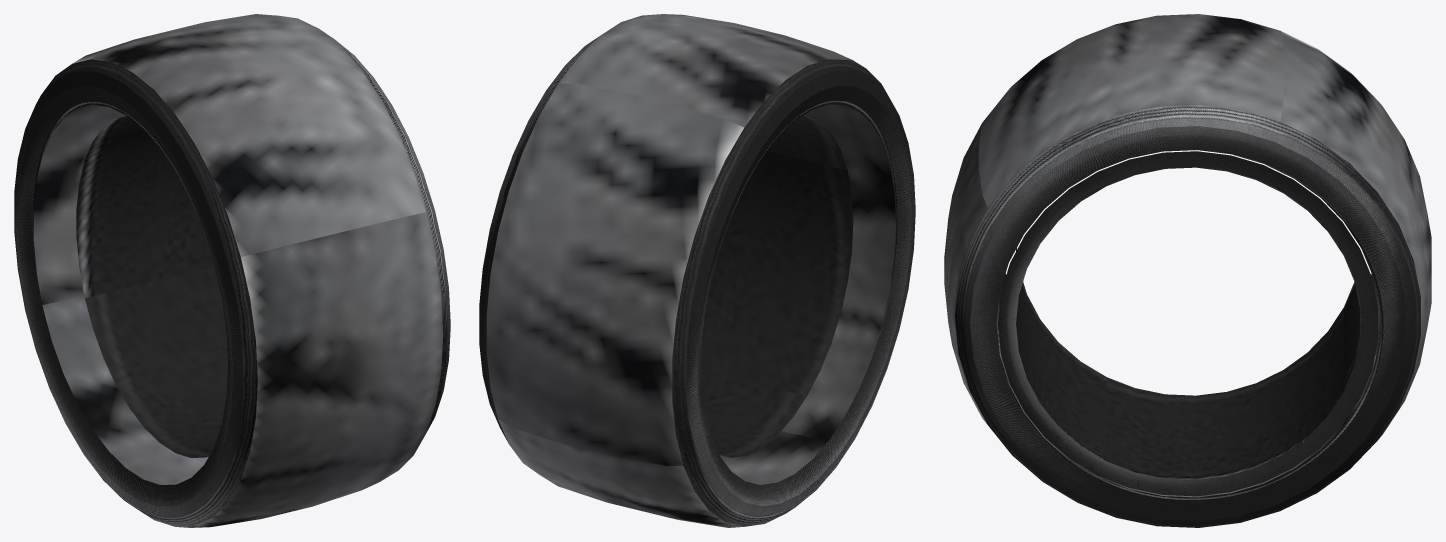
Rendered from Llanta4_CarroText.fbx.
The picture shows the model from 3 angles, left to right: view 1: azimuth 30°, elevation 25°; view 2: azimuth 150°, elevation 25°; view 3: azimuth 270°, elevation 25°; orthographic projection.
Parts seen in each view (by area): view 1: Llanta4_Carro; view 2: Llanta4_Carro; view 3: Llanta4_Carro.
Boxes of the visible parts, x1,y1,x2,y2 form: Llanta4_Carro: [14, 14, 450, 527]; Llanta4_Carro: [479, 14, 915, 527]; Llanta4_Carro: [944, 14, 1431, 527].
Size of the model in its own units: 11.16 by 22.38 by 22.36.
1 material, 1 textured.
